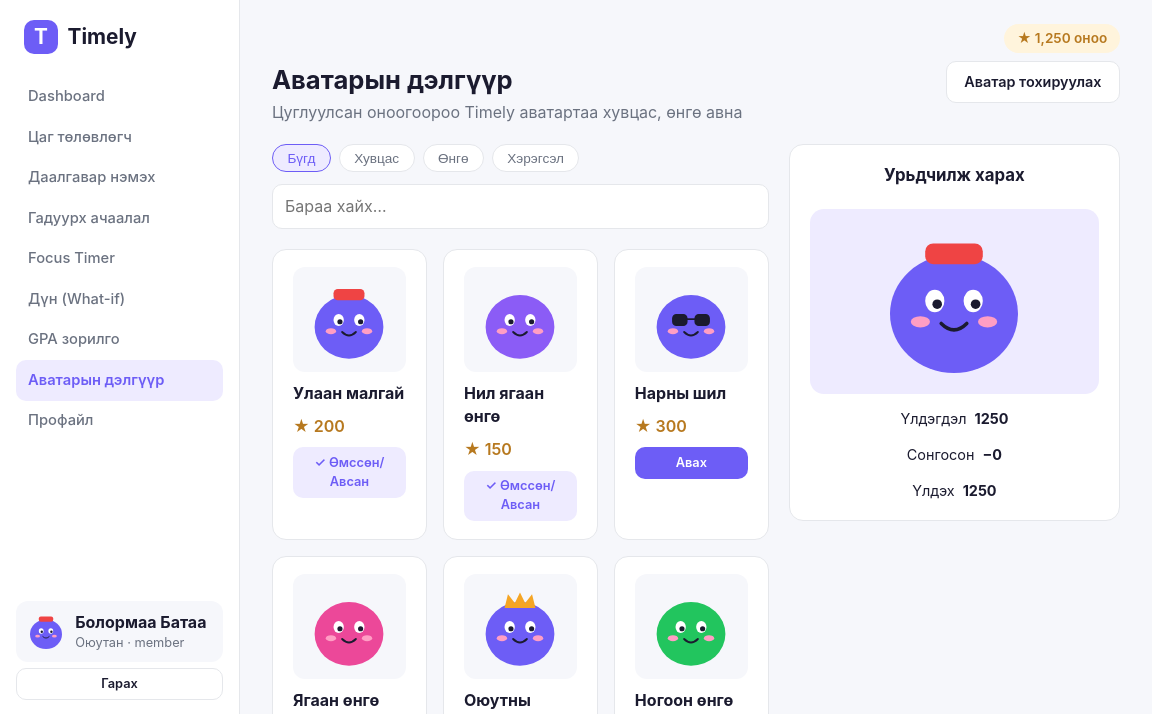
Test: shop, profile, admin › ангиллаар шүүнэ
Click the tab with test id "tab-color" at (453, 158), box top-left (422, 144), bottom-right (484, 172)
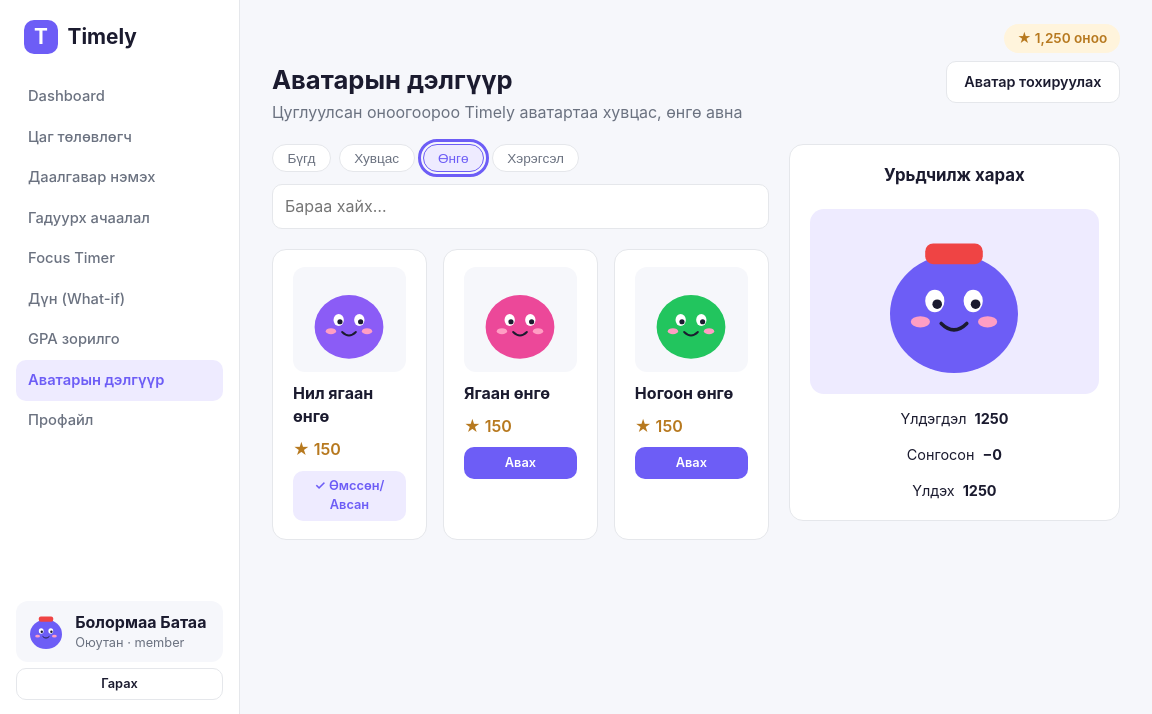
Result: the number of list items with test id "shop-item" is 3 at top-left (272, 248), bottom-right (427, 540); top-left (443, 248), bottom-right (598, 540); top-left (614, 248), bottom-right (769, 540)
